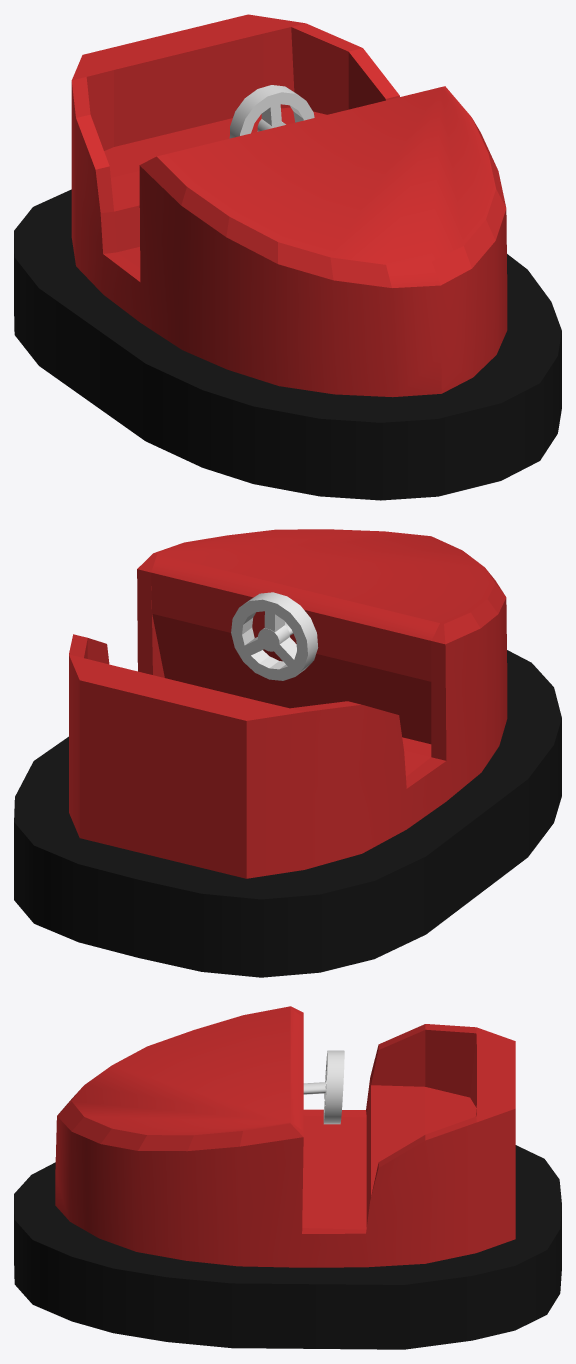
Rendered from carrinhovermelho.FBX.
3 views of the same model, one above another, from view 1: azimuth 30°, elevation 25°; view 2: azimuth 150°, elevation 25°; view 3: azimuth 270°, elevation 25° (orthographic). The views are drawn at different scales.
Visible parts, largest first — view 1: Cylinder008, Cylinder009, volante001; view 2: Cylinder008, Cylinder009, volante001; view 3: Cylinder008, Cylinder009, volante001.
Boxes of the visible parts, x1,y1,x2,y2 form: Cylinder008: (71,14,507,397); Cylinder009: (14,189,561,500); volante001: (229,85,314,138); Cylinder008: (69,529,507,878); Cylinder009: (14,650,561,977); volante001: (231,592,318,680); Cylinder008: (55,1006,515,1267); Cylinder009: (14,1145,561,1349); volante001: (303,1050,344,1124).
Bounding box in the file's own units: 41.3 × 26.21 × 60.42.
